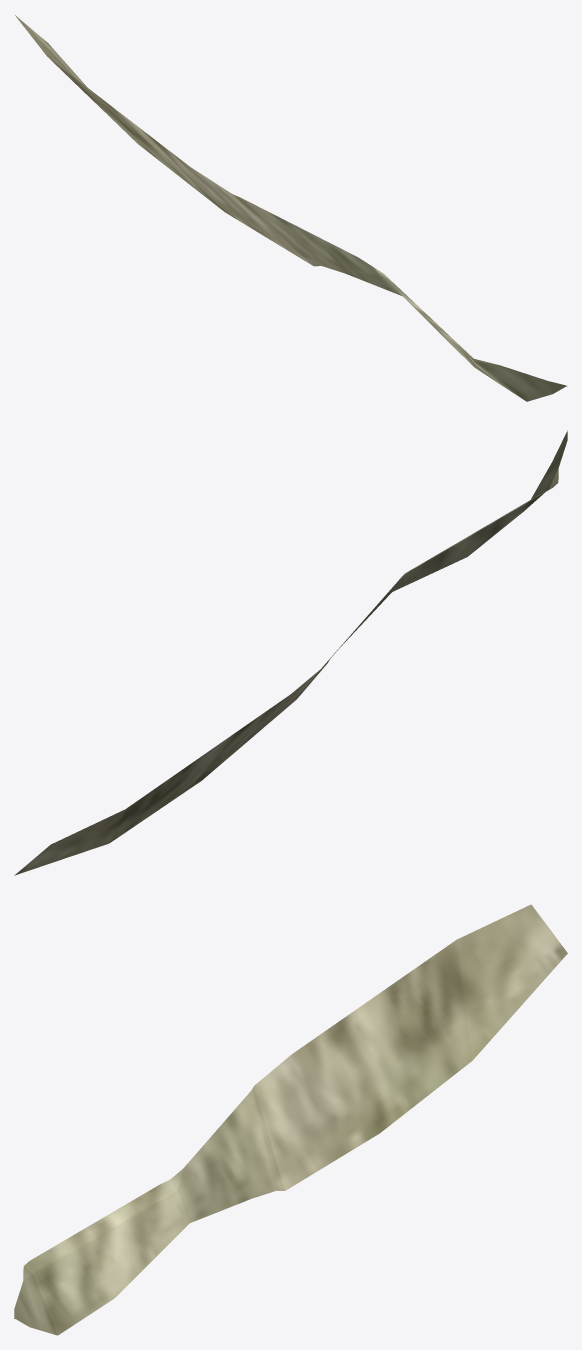
3 views of the same model, one above another, from view 1: azimuth 30°, elevation 25°; view 2: azimuth 150°, elevation 25°; view 3: azimuth 330°, elevation 25° (orthographic). The views are drawn at different scales.
Bounding box in the file's own units: 0.237 × 0.2984 × 3.63.
1 material, 1 textured.
